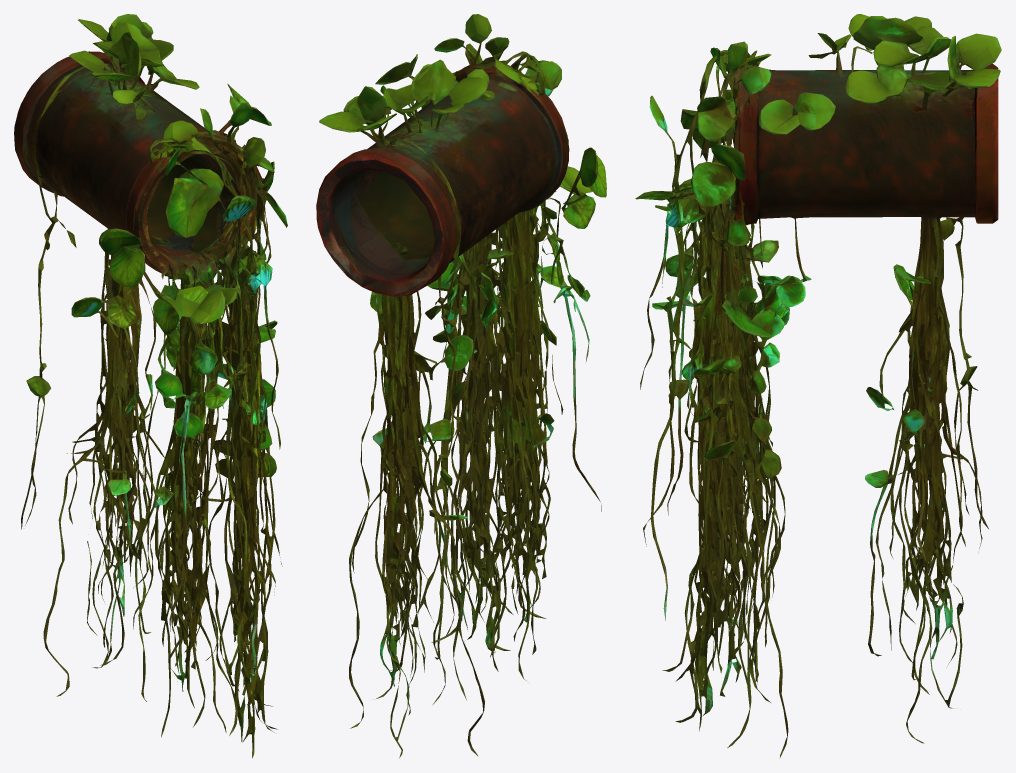
Rendered from glow_creeper.glb.
The picture shows the model from 3 angles, left to right: view 1: azimuth 30°, elevation 25°; view 2: azimuth 150°, elevation 25°; view 3: azimuth 270°, elevation 25°; orthographic projection. The views are drawn at different scales.
Bounding box in the file's own units: 0.5761 × 1.9 × 0.9065.
Materials: 1 (1 with a texture image).
